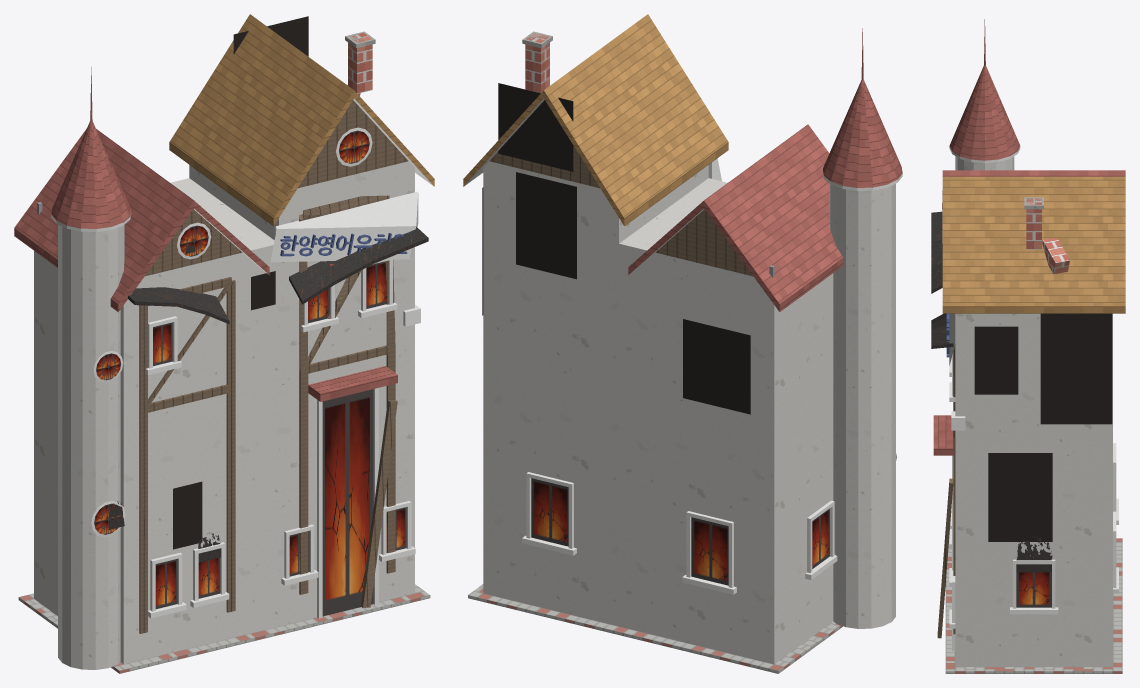
File: Story03_한양영어유치원_화남.fbx
3 renders of one model, left to right at view 1: azimuth 30°, elevation 25°; view 2: azimuth 150°, elevation 25°; view 3: azimuth 270°, elevation 25°, orthographic. The views are drawn at different scales.
Parts seen in each view (by area): view 1: Story03_한양영어유치원_화남; view 2: Story03_한양영어유치원_화남; view 3: Story03_한양영어유치원_화남.
Part boxes in pixels (left/top/right/bottom): Story03_한양영어유치원_화남: left=14, top=14, right=434, bottom=673; Story03_한양영어유치원_화남: left=463, top=14, right=902, bottom=673; Story03_한양영어유치원_화남: left=931, top=19, right=1125, bottom=673.
Bounding box in the file's own units: 3650 × 5876 × 1975.
Materials: 15 (15 with a texture image).
